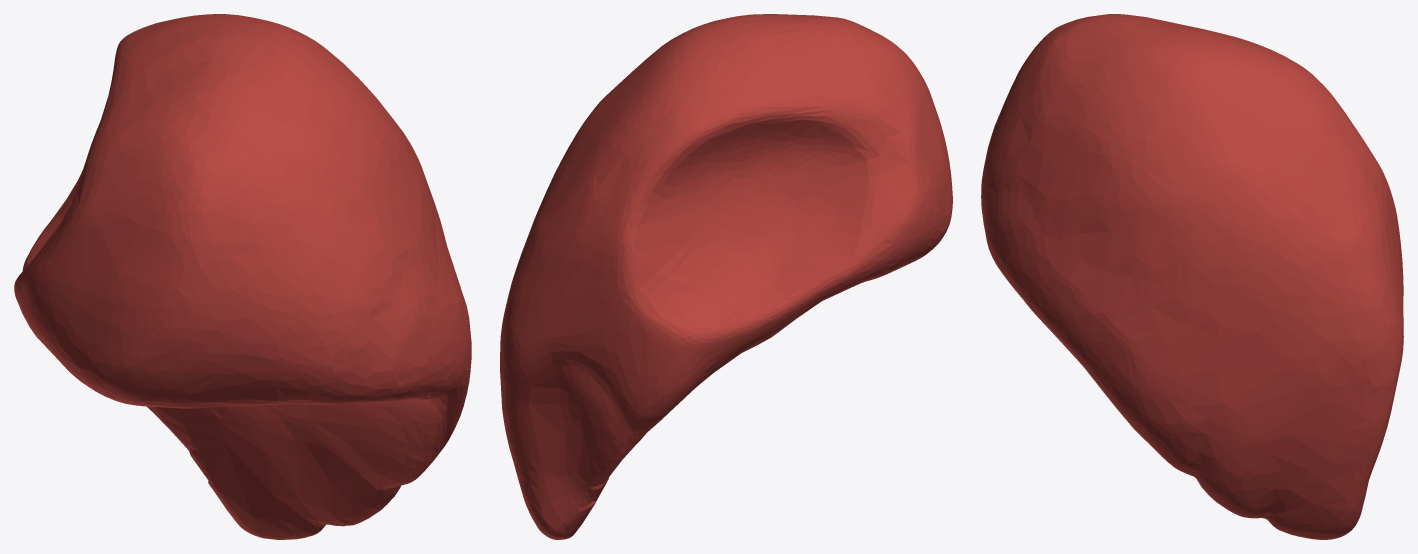
The model's file is spleen.glb.
3 views of the same model, side by side, from view 1: azimuth 30°, elevation 25°; view 2: azimuth 150°, elevation 25°; view 3: azimuth 270°, elevation 25° (orthographic). The views are drawn at different scales.
Size of the model in its own units: 73.92 by 99.27 by 83.67.
